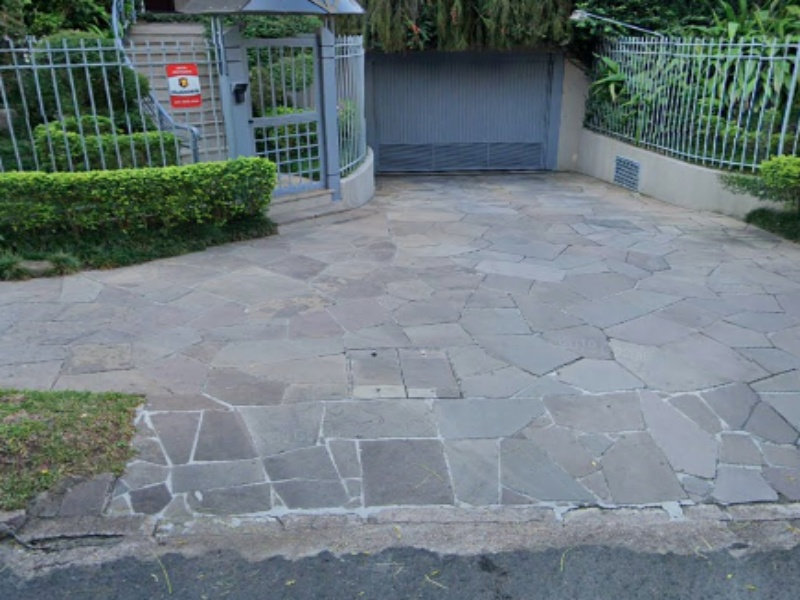g48: (136, 436, 796, 586)
